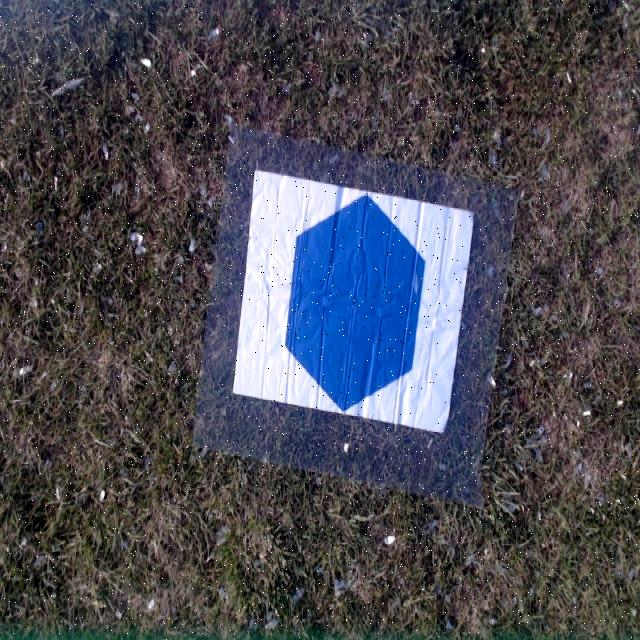blue_hexagon: (285, 188, 427, 414)
